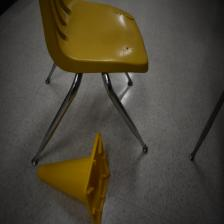cube: (37, 132, 110, 224)
